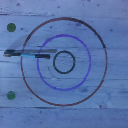Axe Tip: (6, 49, 15, 51)
